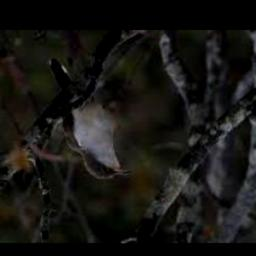Cuckoo: (46, 57, 133, 179)
